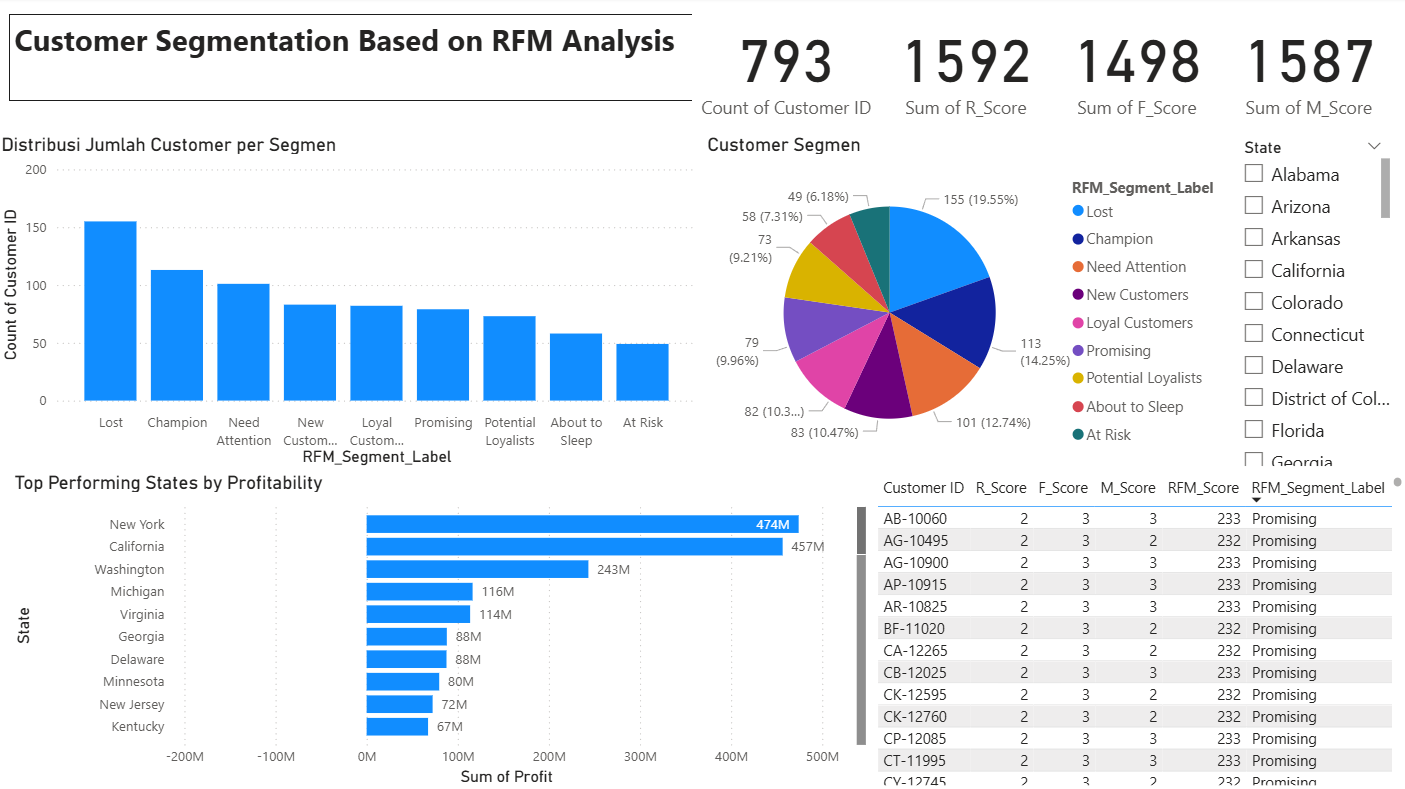

What the dashboard file says about the page in this screenshot:
{"tool":"powerbi","page":{"name":"Page 4","canvas":[1280,720],"ordinal":0},"visuals":[{"type":"textbox","box":[11.6,15.1,664.4,79],"z":0},{"type":"clusteredBarChart","title":"Top Performing States by Profitability","fields":{"Category":["superstore_cleaned.State"],"Y":["Sum(superstore_cleaned.Profit)"]},"box":[11.6,429.8,781.7,290.4],"z":1},{"type":"pieChart","title":"Customer Segmen","fields":{"Category":["rfm_segment_superstore.RFM_Segment_Label"],"Y":["CountNonNull(rfm_segment_superstore.Customer ID)"]},"box":[640,123.1,484.4,306.6],"z":2},{"type":"tableEx","fields":{"Values":["rfm_segment_superstore.Customer ID","rfm_segment_superstore.R_Score","rfm_segment_superstore.F_Score","rfm_segment_superstore.M_Score","rfm_segment_superstore.RFM_Score","rfm_segment_superstore.RFM_Segment_Label"]},"box":[793.3,429.8,486.7,290.4],"z":3},{"type":"card","fields":{"Values":["Count(rfm_segment_superstore.Customer ID)"]},"box":[630.7,0,170.7,123.1],"z":4},{"type":"card","fields":{"Values":["Sum(rfm_segment_superstore.F_Score)"]},"box":[957.1,0,155.6,123.1],"z":5},{"type":"card","fields":{"Values":["Sum(rfm_segment_superstore.R_Score)"]},"box":[801.5,0,155.6,123.1],"z":6},{"type":"card","fields":{"Values":["Sum(rfm_segment_superstore.M_Score)"]},"box":[1112.7,0,155.6,123.1],"z":7},{"type":"clusteredColumnChart","title":"Distribusi Jumlah Customer per Segmen","fields":{"Category":["rfm_segment_superstore.RFM_Segment_Label"],"Y":["Count(rfm_segment_superstore.Customer ID)"]},"box":[0,123.1,640,306.6],"z":8},{"type":"slicer","fields":{"Values":["superstore_cleaned.State"]},"box":[1118.5,123.1,149.8,306.6],"z":10}]}

Visuals, with their boxes in screenshot pixels (x1, y1, x2, y2), scaled from the page's 1280x720 canvas onto the 1405x789 screenshot:
textbox: l=13, t=17, r=742, b=103
"Top Performing States by Profitability" clusteredBarChart: l=13, t=471, r=871, b=788
"Customer Segmen" pieChart: l=702, t=135, r=1234, b=471
tableEx - rfm_segment_superstore.Customer ID x rfm_segment_superstore.R_Score: l=871, t=471, r=1404, b=788
card - Count(rfm_segment_superstore.Customer ID): l=692, t=0, r=880, b=135
card - Sum(rfm_segment_superstore.F_Score): l=1051, t=0, r=1221, b=135
card - Sum(rfm_segment_superstore.R_Score): l=880, t=0, r=1051, b=135
card - Sum(rfm_segment_superstore.M_Score): l=1221, t=0, r=1392, b=135
"Distribusi Jumlah Customer per Segmen" clusteredColumnChart: l=0, t=135, r=702, b=471
slicer - superstore_cleaned.State: l=1228, t=135, r=1392, b=471
